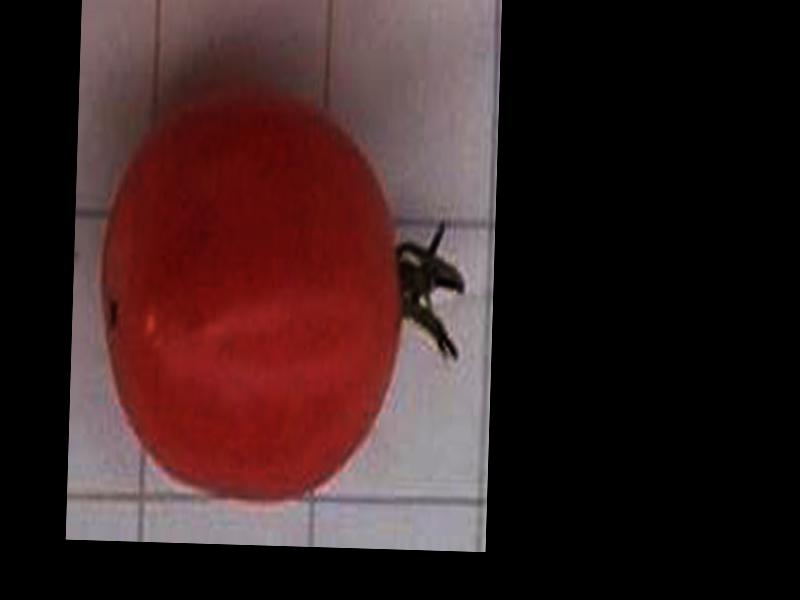Tomato: (94, 86, 406, 504)
